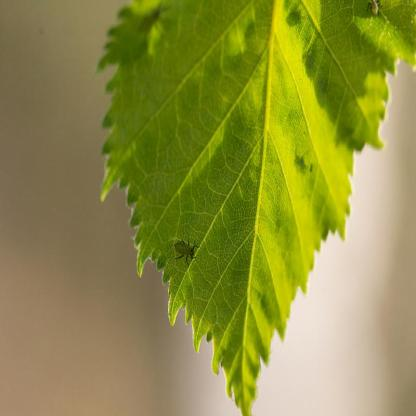aphid: (172, 235, 200, 268)
